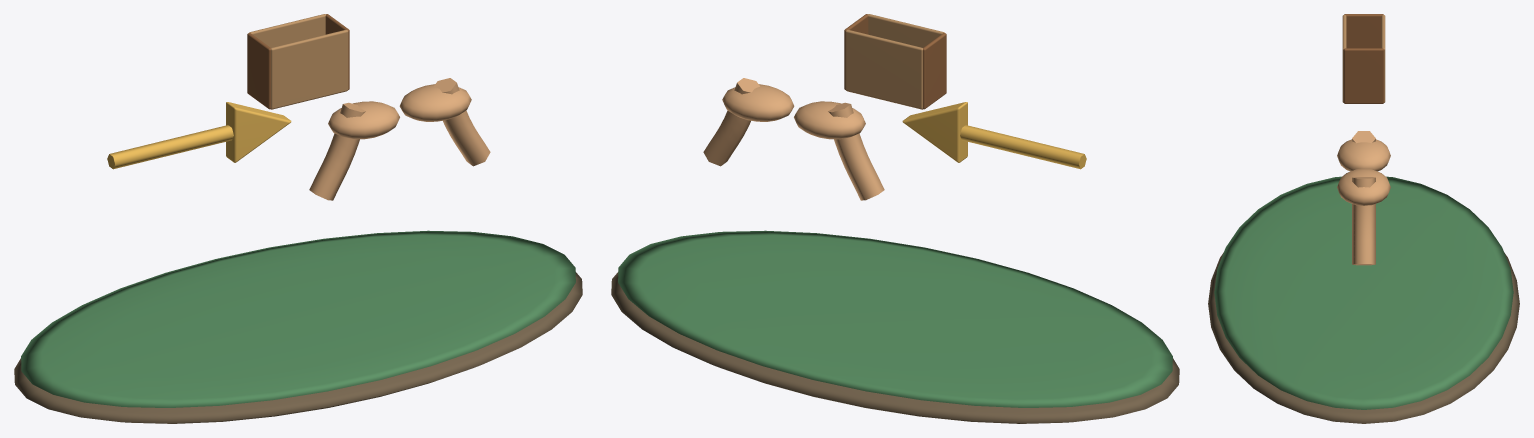
File: complete-second-straight-receive.glb
The picture shows the model from 3 angles, left to right: view 1: azimuth 30°, elevation 25°; view 2: azimuth 150°, elevation 25°; view 3: azimuth 270°, elevation 25°; orthographic projection. The views are drawn at different scales.
Parts seen in each view (by area): view 1: complete-second-straight-receive_surface_01, complete-second-straight-receive_surface_00, complete-second-straight-receive_surface_03, complete-second-straight-receive_surface_04, complete-second-straight-receive_surface_02, complete-second-straight-receive_surface_05; view 2: complete-second-straight-receive_surface_01, complete-second-straight-receive_surface_00, complete-second-straight-receive_surface_03, complete-second-straight-receive_surface_04, complete-second-straight-receive_surface_02, complete-second-straight-receive_surface_05; view 3: complete-second-straight-receive_surface_01, complete-second-straight-receive_surface_00, complete-second-straight-receive_surface_03, complete-second-straight-receive_surface_05, complete-second-straight-receive_surface_04.
Boxes of the visible parts, x1,y1,x2,y2 form: complete-second-straight-receive_surface_01: (21, 230, 575, 407); complete-second-straight-receive_surface_00: (14, 272, 582, 423); complete-second-straight-receive_surface_03: (309, 78, 490, 200); complete-second-straight-receive_surface_04: (249, 14, 348, 109); complete-second-straight-receive_surface_02: (107, 102, 291, 169); complete-second-straight-receive_surface_05: (247, 14, 349, 109); complete-second-straight-receive_surface_01: (618, 230, 1172, 407); complete-second-straight-receive_surface_00: (611, 272, 1179, 423); complete-second-straight-receive_surface_03: (703, 78, 884, 200); complete-second-straight-receive_surface_04: (845, 14, 944, 109); complete-second-straight-receive_surface_02: (902, 102, 1086, 169); complete-second-straight-receive_surface_05: (844, 14, 946, 109); complete-second-straight-receive_surface_01: (1214, 176, 1513, 409); complete-second-straight-receive_surface_00: (1208, 252, 1519, 423); complete-second-straight-receive_surface_03: (1337, 131, 1390, 265); complete-second-straight-receive_surface_05: (1343, 14, 1384, 103); complete-second-straight-receive_surface_04: (1342, 15, 1385, 102).
Size of the model in its own units: 4.56 by 2.54 by 2.5.
